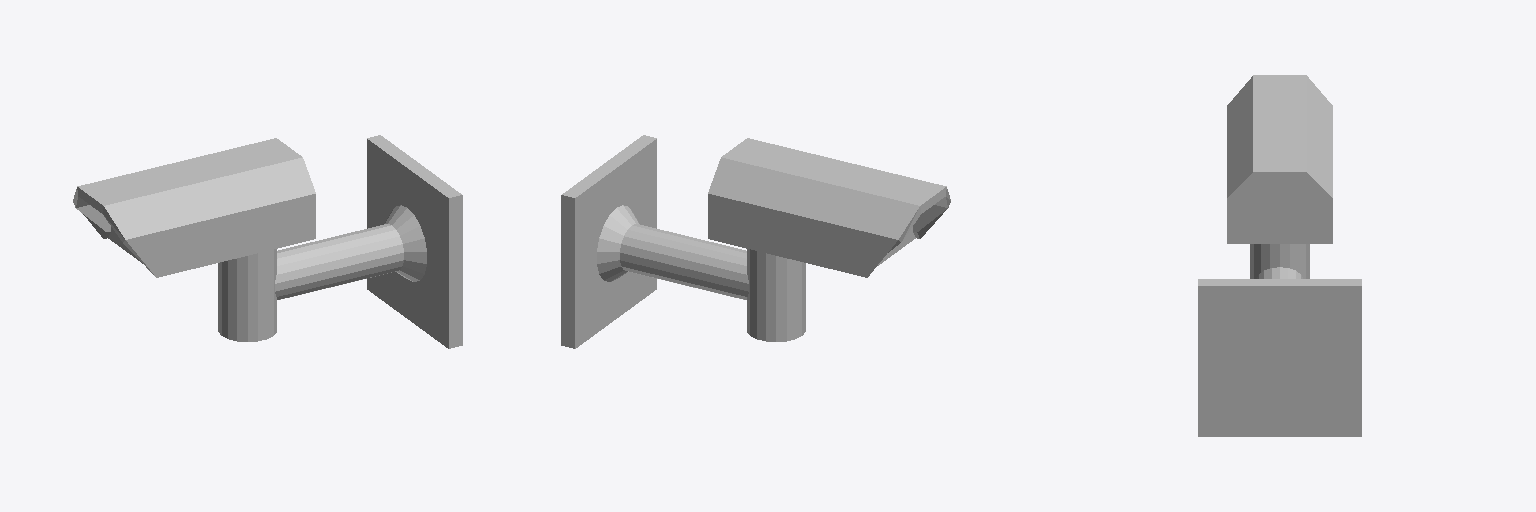
Rendered from SecurityCam.obj.
3 views of the same model, side by side, from view 1: azimuth 30°, elevation 25°; view 2: azimuth 150°, elevation 25°; view 3: azimuth 270°, elevation 25° (orthographic).
Visible parts, largest first — view 1: Box007, Box006, Cylinder001, Cylinder002; view 2: Box007, Box006, Cylinder001, Cylinder002; view 3: Box006, Box007, Cylinder002.
Boxes of the visible parts, box(x1,y1,x2,y2) form: Box007: box(73, 138, 315, 277); Box006: box(367, 135, 462, 348); Cylinder001: box(275, 205, 426, 299); Cylinder002: box(218, 249, 276, 341); Box007: box(708, 138, 950, 277); Box006: box(561, 135, 656, 348); Cylinder001: box(597, 205, 748, 299); Cylinder002: box(747, 249, 805, 341); Box006: box(1198, 279, 1361, 436); Box007: box(1227, 75, 1332, 243); Cylinder002: box(1250, 244, 1309, 278).
Bounding box in the file's own units: 35 × 20.23 × 15.